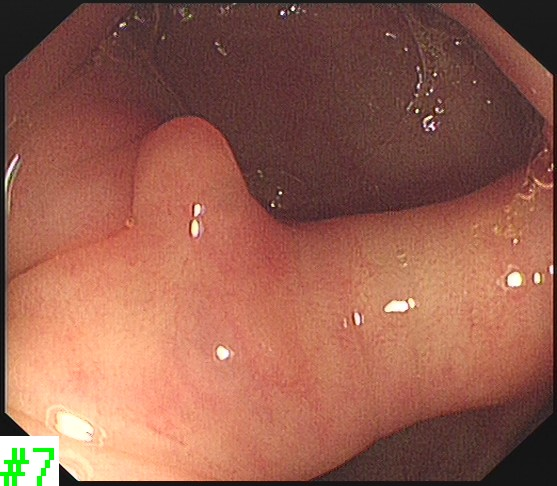others: (126, 110, 272, 228)
